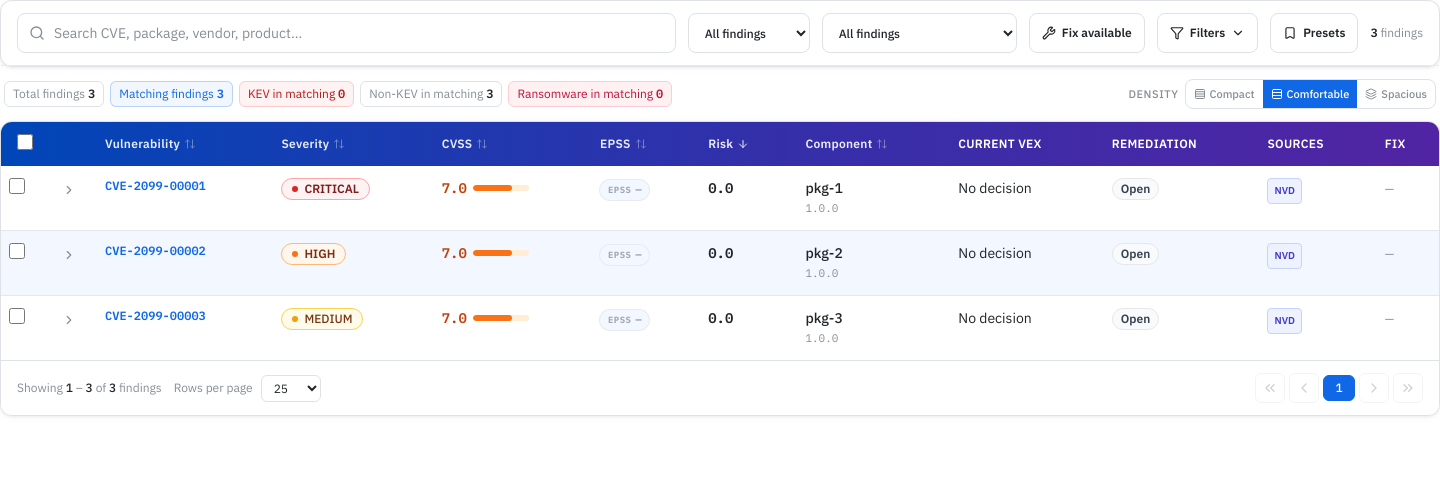
Scenario: FindingsTable — selection column › selects every visible finding when the user clicks the header in "none" state
The width and height of the screenshot is (1440, 490).
Click the checkbox with test id "findings-select-all" at (25, 142), box [17,134,33,150]
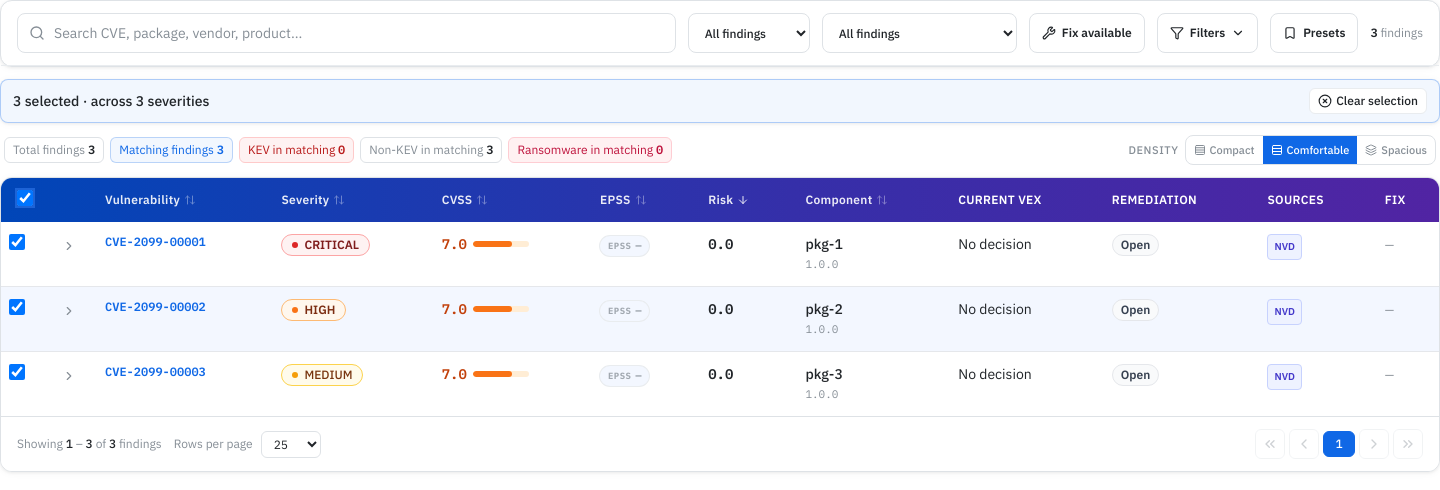
Result: the text with test id "selection-summary" reads "3 selected · across 3 severities" at [13,92,210,110]
